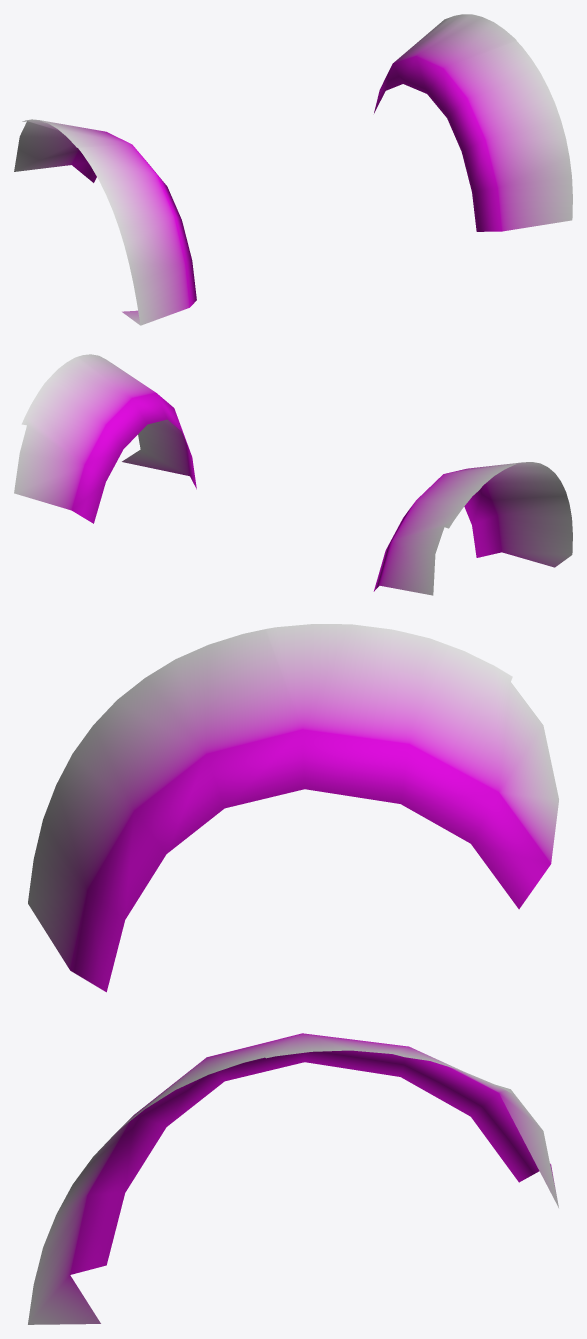
The model's file is Car_Mini_CountrymanJCW_2017_FendersChassisR_SetC.fbx.
The picture shows the model from 3 angles, top to bottom: view 1: azimuth 30°, elevation 25°; view 2: azimuth 150°, elevation 25°; view 3: azimuth 270°, elevation 25°; orthographic projection. The views are drawn at different scales.
Parts seen in each view (by area): view 1: FendersChassisR 6; view 2: FendersChassisR 6; view 3: FendersChassisR 6.
Boxes of the visible parts, x1,y1,x2,y2 form: FendersChassisR 6: [14, 14, 572, 325]; FendersChassisR 6: [14, 354, 572, 595]; FendersChassisR 6: [28, 624, 558, 1324].
Bounding box in the file's own units: 1.76 × 0.5544 × 0.9155.
